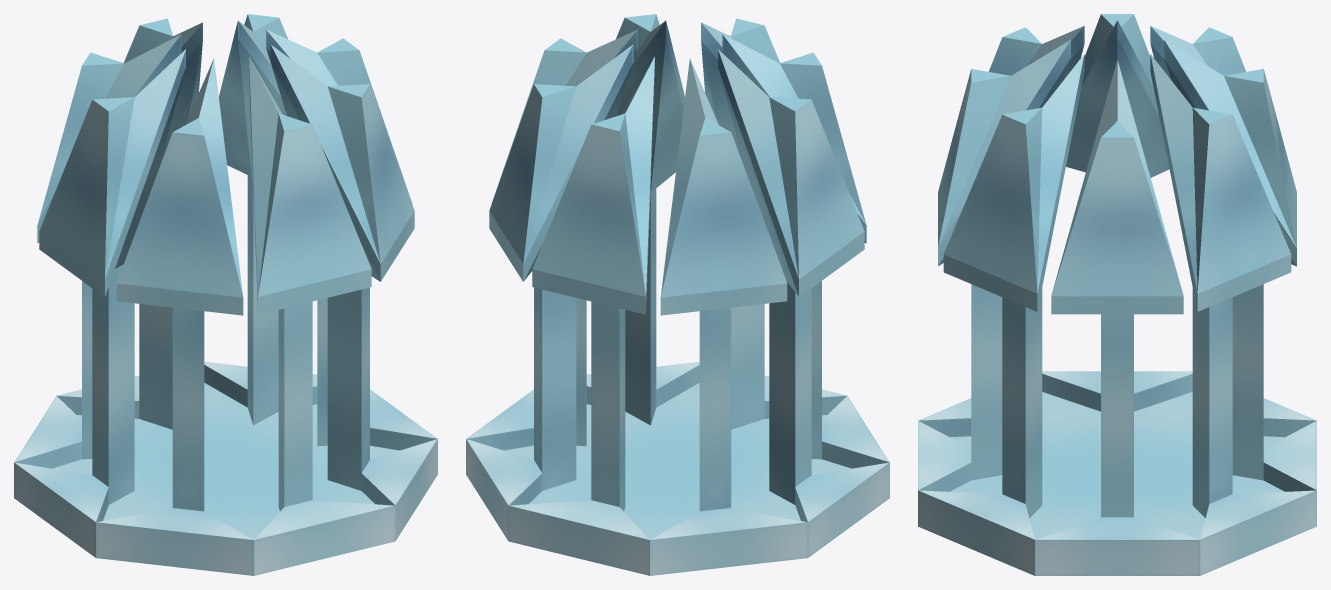
The model's file is arena.fbx.
The picture shows the model from 3 angles, left to right: view 1: azimuth 30°, elevation 25°; view 2: azimuth 150°, elevation 25°; view 3: azimuth 270°, elevation 25°; orthographic projection.
Parts seen in each view (by area): view 1: cylinder; view 2: cylinder; view 3: cylinder.
Part boxes in pixels (x1=…): cylinder: x1=14, y1=14, x2=437, y2=575; cylinder: x1=466, y1=14, x2=889, y2=575; cylinder: x1=918, y1=14, x2=1316, y2=575.
Bounding box in the file's own units: 125 × 156 × 125.
Materials: 1 (1 with a texture image).
